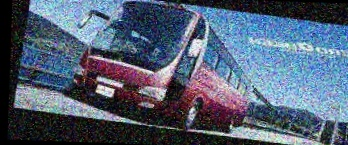bus: (67, 0, 263, 136)
